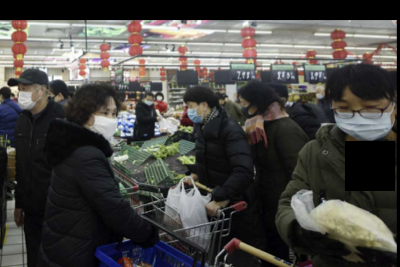with_mask: (332, 98, 393, 142), (90, 107, 118, 141), (15, 85, 37, 112), (186, 104, 203, 125), (240, 100, 253, 119), (143, 98, 155, 107), (314, 90, 324, 100), (155, 94, 163, 103)
